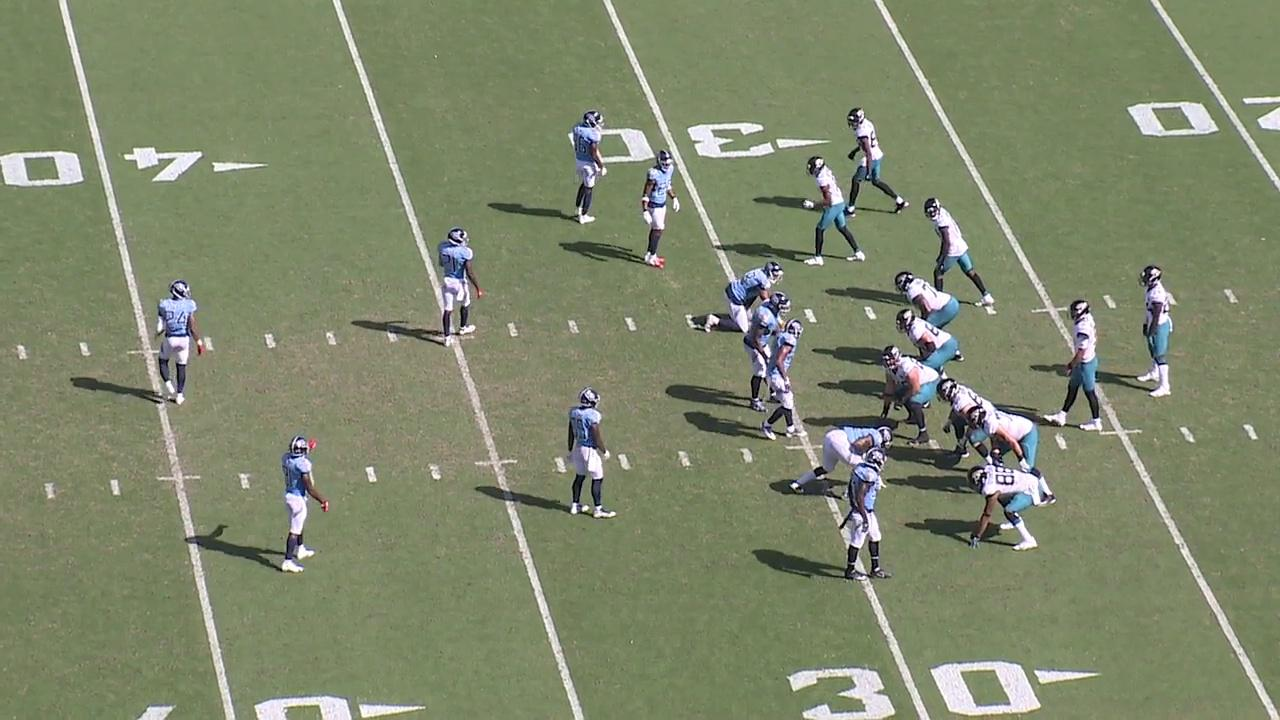defense: (561, 387, 621, 529), (680, 262, 787, 340), (790, 423, 897, 500), (146, 279, 208, 411), (839, 451, 893, 589), (279, 430, 327, 579), (427, 226, 483, 349), (745, 289, 797, 416), (761, 314, 811, 446), (563, 103, 613, 230), (640, 147, 681, 273)
oline: (966, 403, 1058, 506), (874, 342, 941, 449), (892, 270, 967, 365), (936, 376, 997, 465), (894, 307, 960, 379)
qb: (1041, 293, 1107, 436)
skill: (923, 194, 996, 315), (965, 465, 1060, 557), (797, 151, 869, 268), (844, 101, 911, 221), (1136, 260, 1179, 405)
